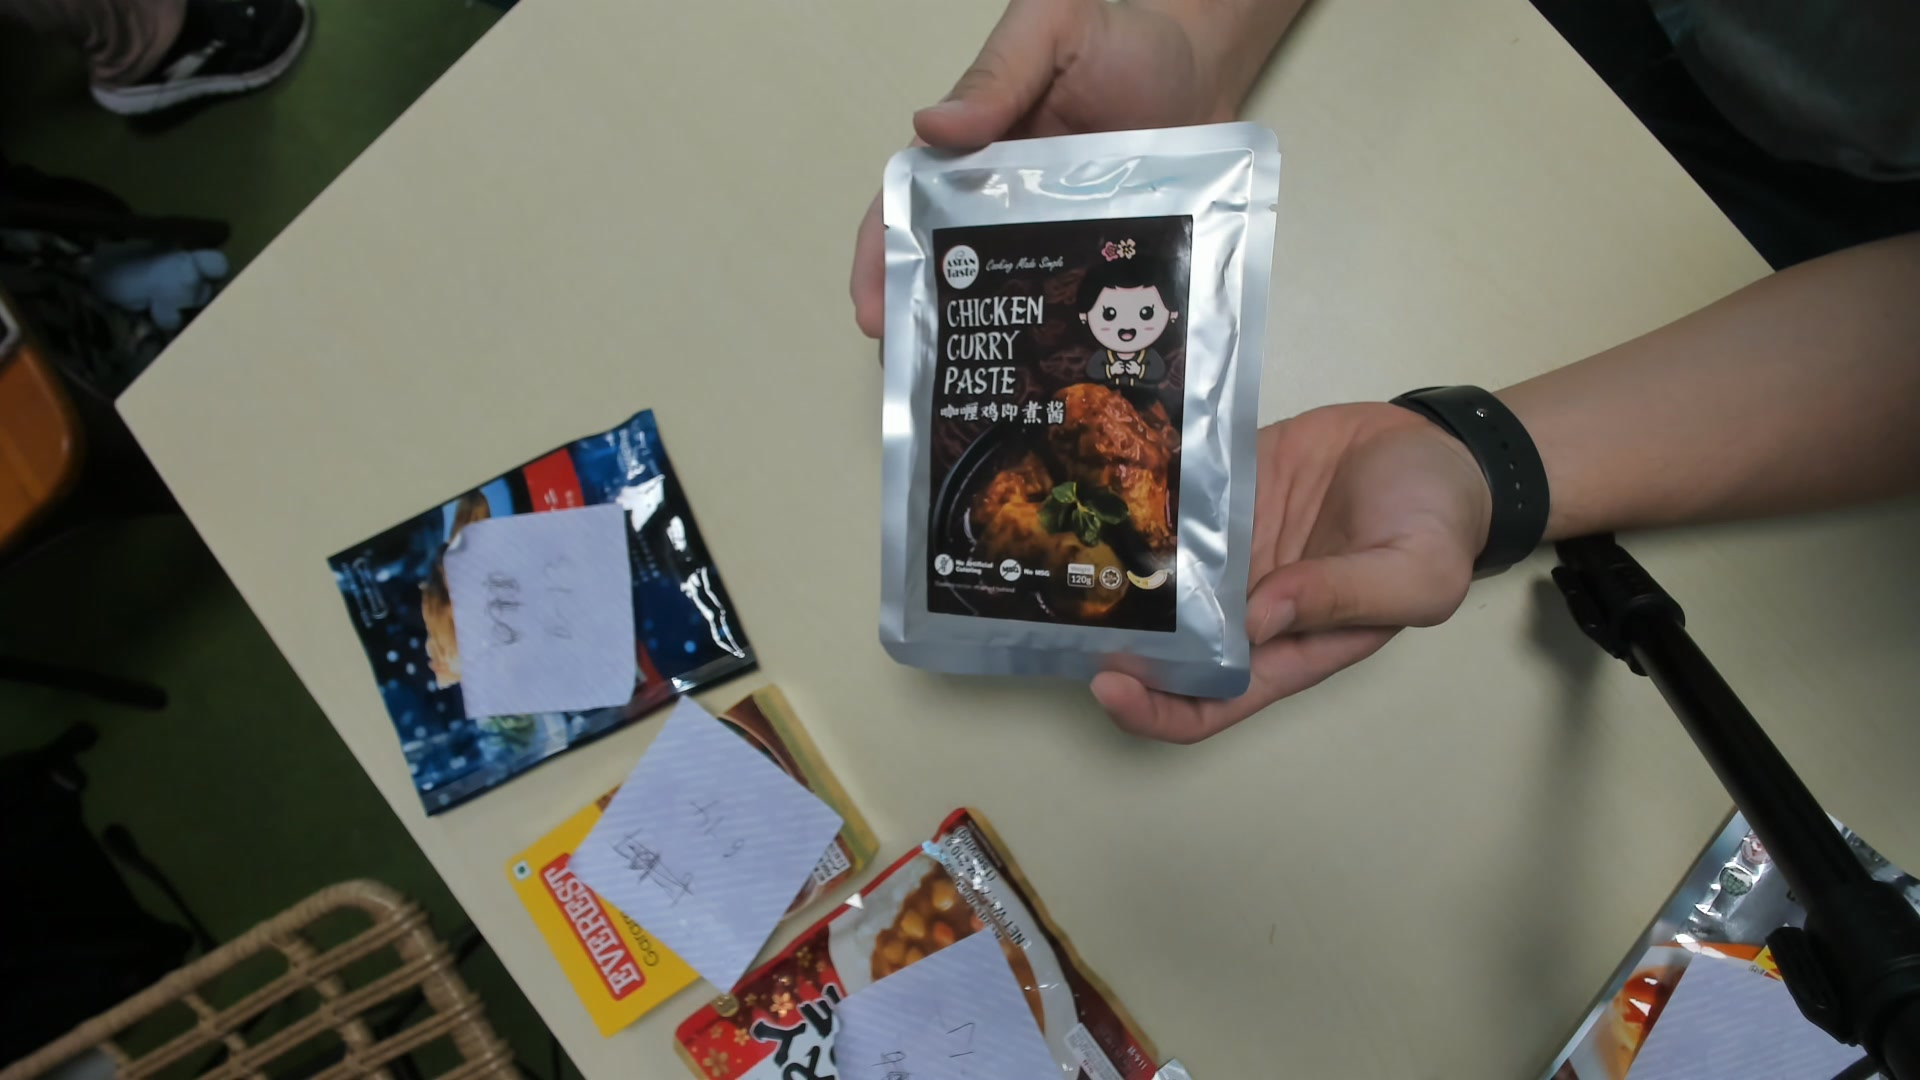CurryPastePowderSauce_100-199g_Halal_NonHealthy: (884, 131, 1255, 694)
